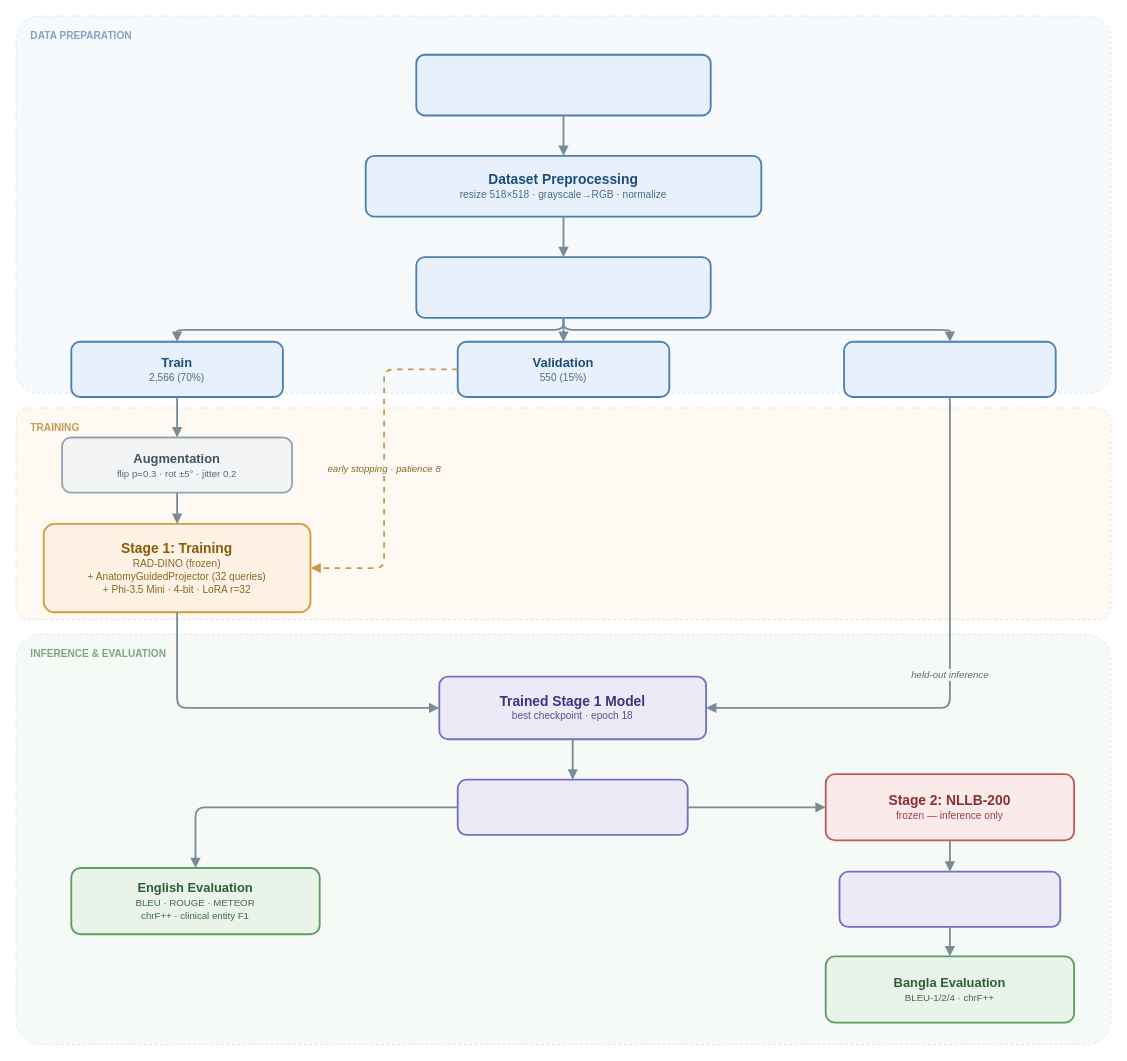
Some shapes in this 1127 by 1061 pixel diagram are drawn without their labels. The shapes that lost their labels are listed below. From the top down, each one's centre as x and y in pixels, then its label:
[563,84]: IU X-ray Dataset 3,666 image–report pairs
[563,287]: Dataset Splitting random seed 42
[949,368]: Test 550 (15%)
[572,806]: English Reports 550 generated
[949,898]: Bangla Reports 550 translated
